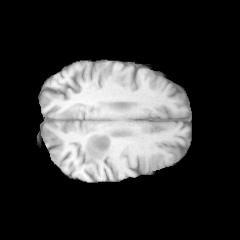glioma: (85, 134, 111, 160)
